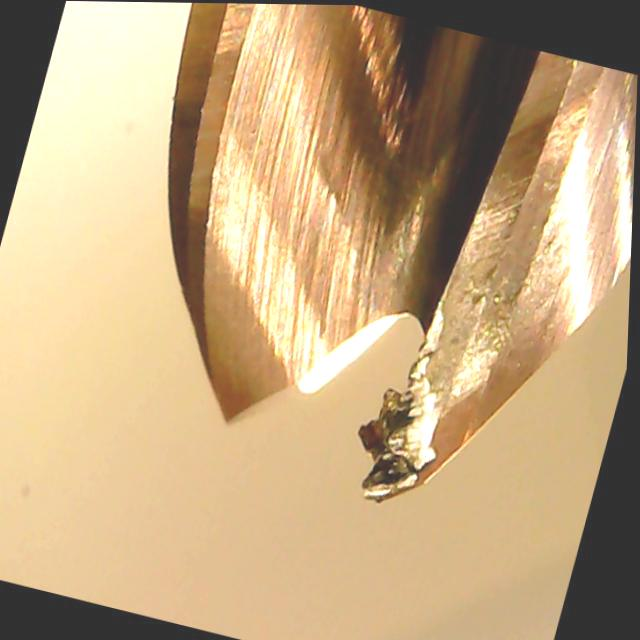Tool-wear-class-2: (333, 201, 556, 532)
